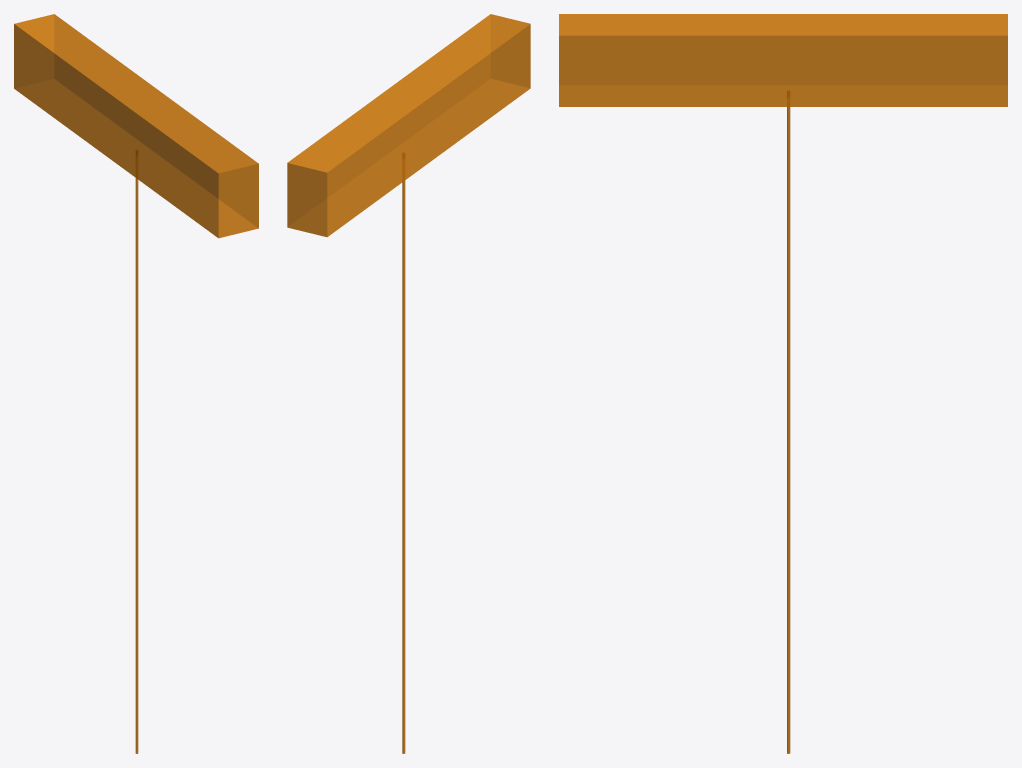
The model's file is Polev2.dae.
The picture shows the model from 3 angles, left to right: view 1: azimuth 30°, elevation 25°; view 2: azimuth 150°, elevation 25°; view 3: azimuth 270°, elevation 25°; orthographic projection. The views are drawn at different scales.
Visible parts, largest first — view 1: Cube, Cylinder; view 2: Cube, Cylinder; view 3: Cube, Cylinder.
Part boxes in pixels (x1,y1,x2,y2): Cube: (14, 14, 258, 238); Cylinder: (135, 150, 138, 753); Cube: (287, 14, 530, 237); Cylinder: (402, 152, 405, 753); Cube: (559, 14, 1007, 106); Cylinder: (787, 90, 790, 753).
Size of the model in its own units: 0.2649 by 2.33 by 4.16.
